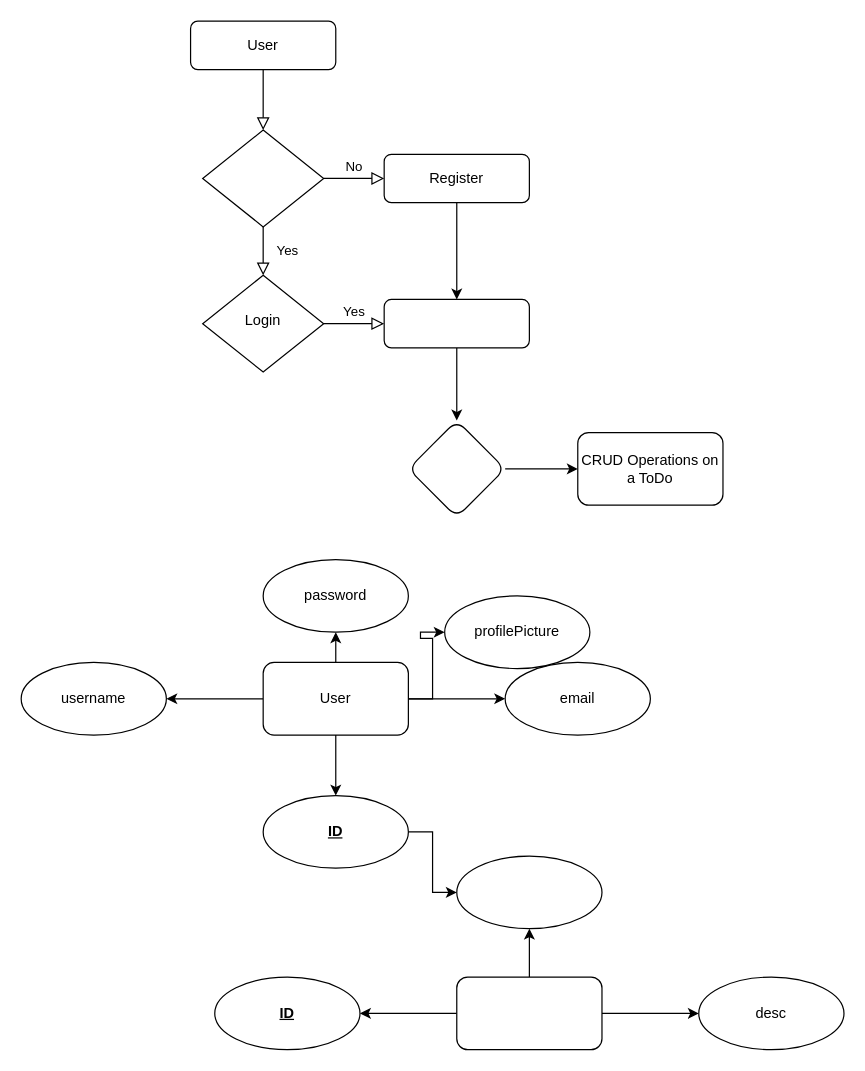
This 865x1071 diagram has some shape labels left out. Each missing label, with the box of its shape:
Authenticated: (407, 419, 505, 517)
Existing: (201, 129, 324, 227)
Home Page showing all todos of this user: (383, 298, 529, 348)
Todo: (456, 976, 602, 1050)
userId: (456, 855, 602, 929)
